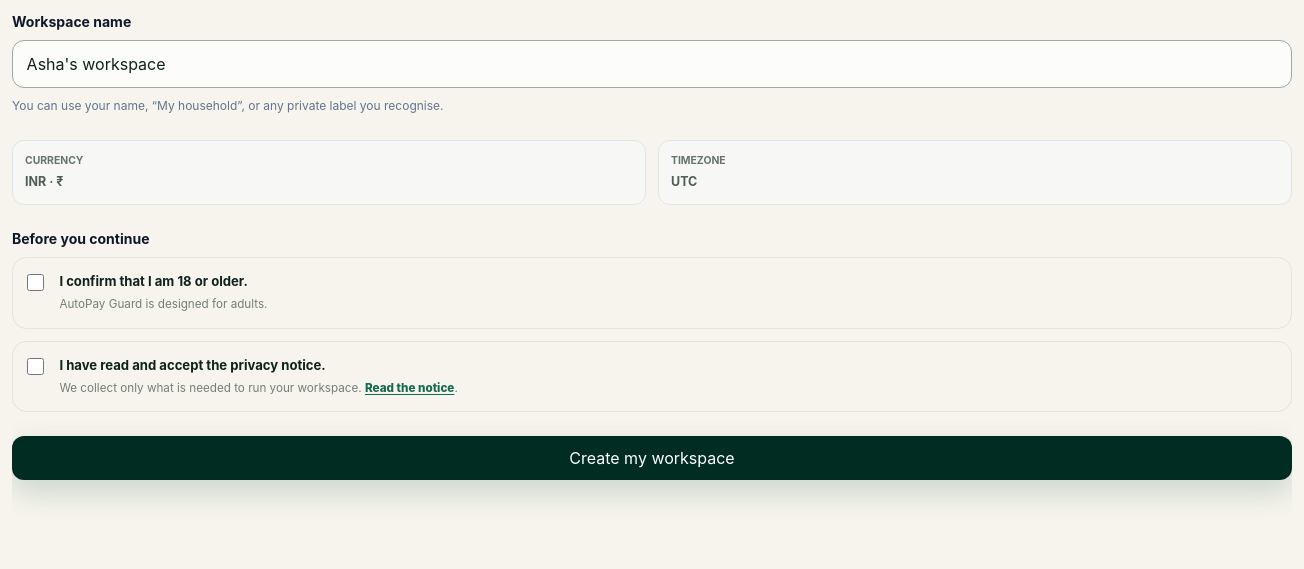
OnboardingForm › requires the age and privacy confirmations
The image size is (1304, 569).
Click the button "Create my workspace".
click(652, 458)  # box 12,436 -> 1292,480
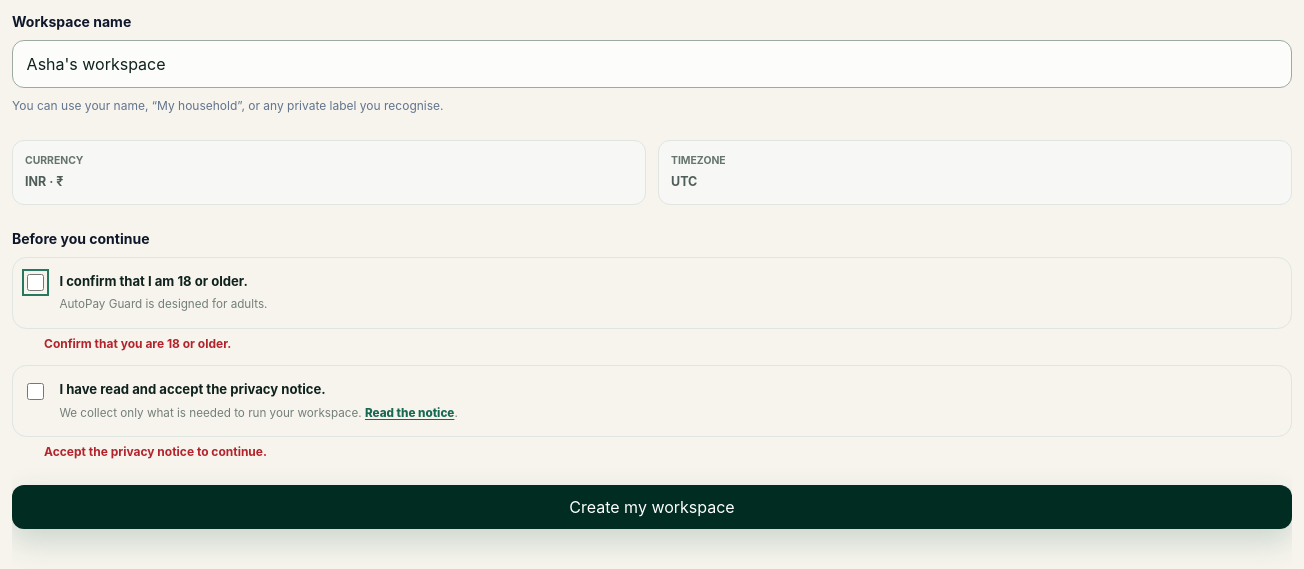
Expected: the text "Confirm that you are 18 or older." is shown, 44,336 -> 231,351
Expected: the text "Accept the privacy notice to continue." is shown, 44,444 -> 267,459
